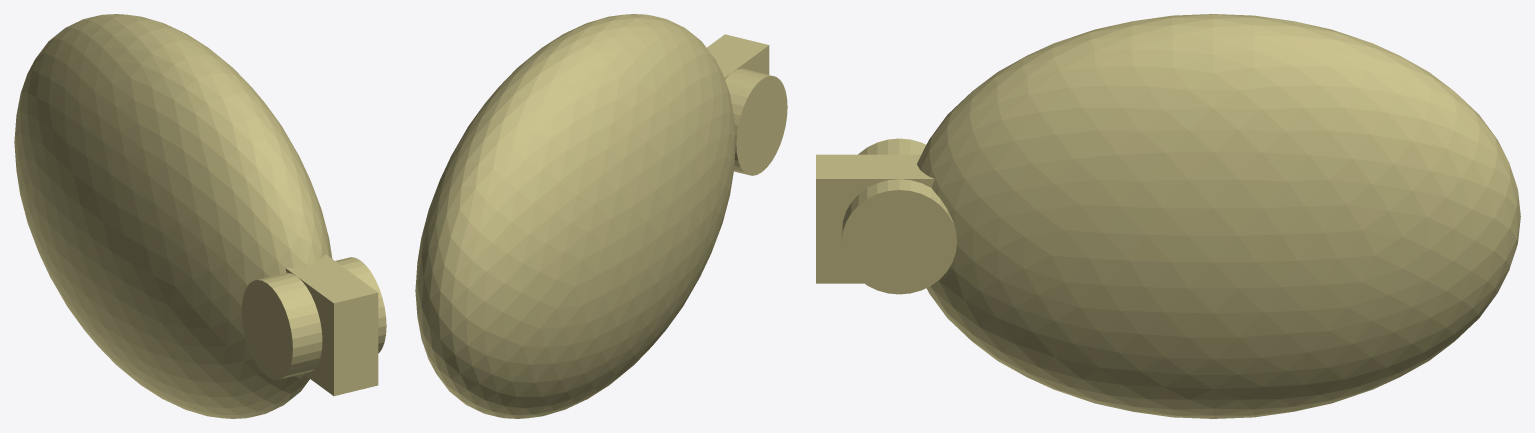
3 renders of one model, left to right at view 1: azimuth 30°, elevation 25°; view 2: azimuth 150°, elevation 25°; view 3: azimuth 270°, elevation 25°, orthographic. The views are drawn at different scales.
Parts seen in each view (by area): view 1: geometry_0; view 2: geometry_0; view 3: geometry_0.
Part boxes in pixels (bbox=[...]): geometry_0: bbox=[14, 14, 386, 418]; geometry_0: bbox=[415, 14, 787, 418]; geometry_0: bbox=[816, 14, 1520, 418].
Size of the model in its own units: 34 by 68 by 110.
